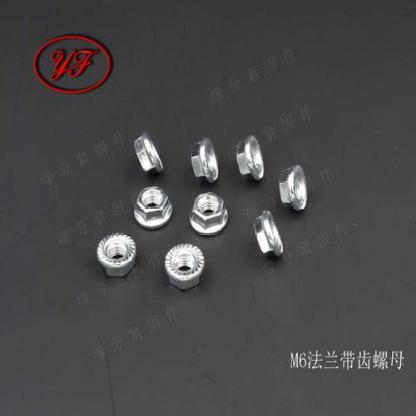FOD: (96, 232, 138, 282), (164, 242, 205, 292), (133, 184, 174, 230), (188, 191, 229, 236), (252, 209, 284, 263), (278, 162, 309, 217), (234, 132, 266, 184), (132, 128, 165, 178), (190, 136, 221, 184)
